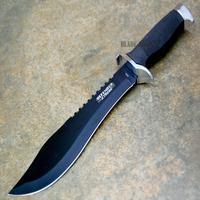knife: (7, 7, 189, 196)
